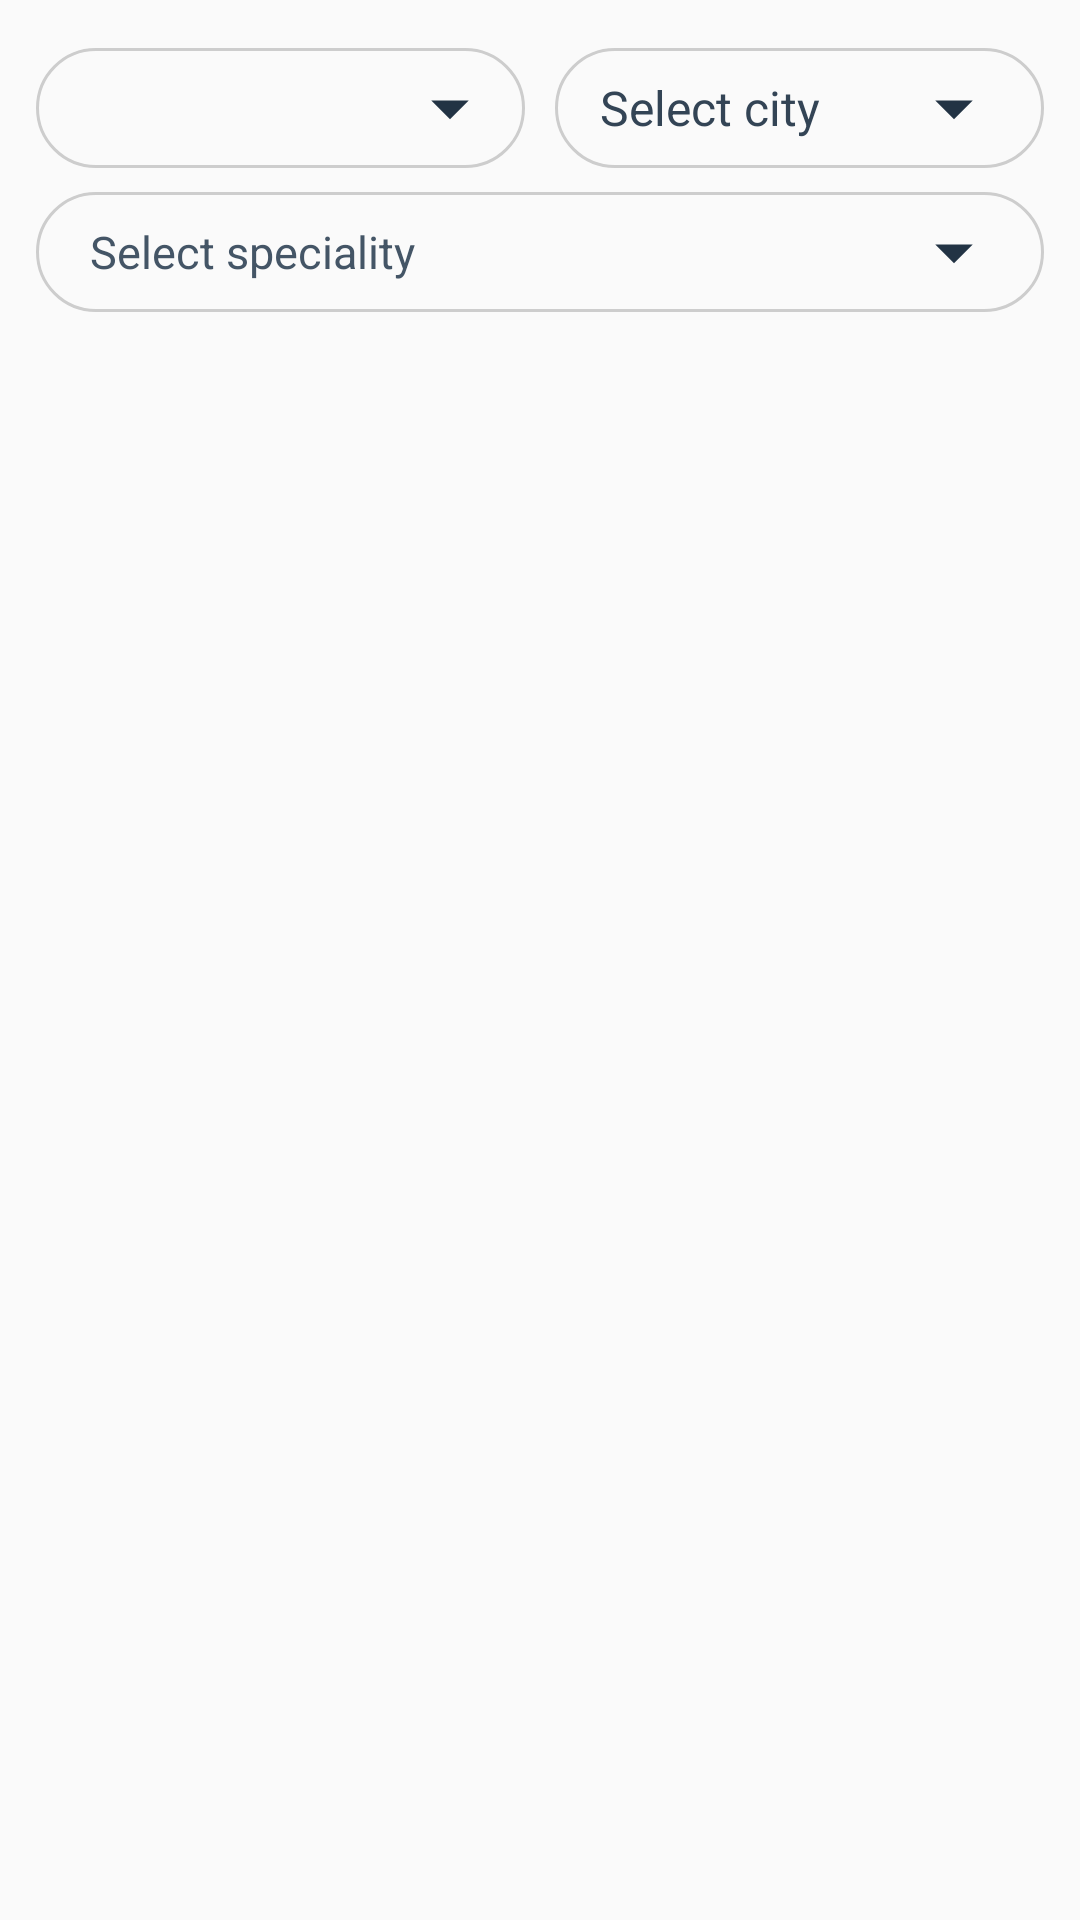

Locate icon controls on the screen. Image size 1080×1920, boxes as [x1,y1,x2,y2].
arrow: [431,100,469,119], [935,100,973,119], [935,244,973,263]
